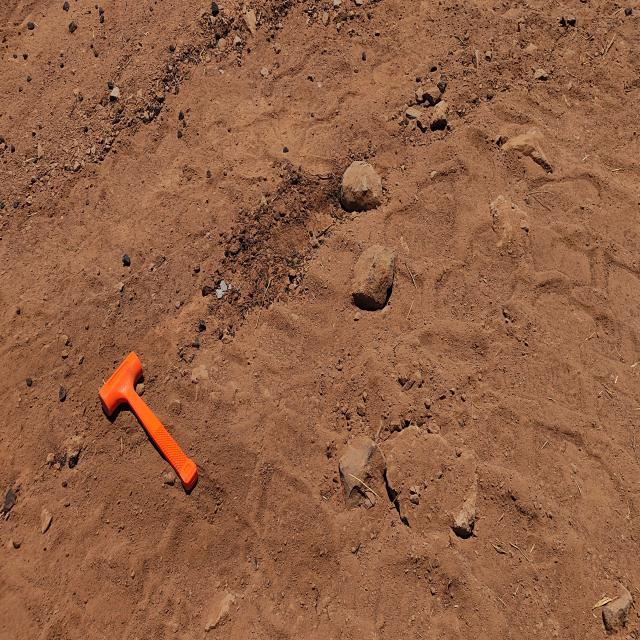Orange_hammer: (98, 349, 198, 494)
